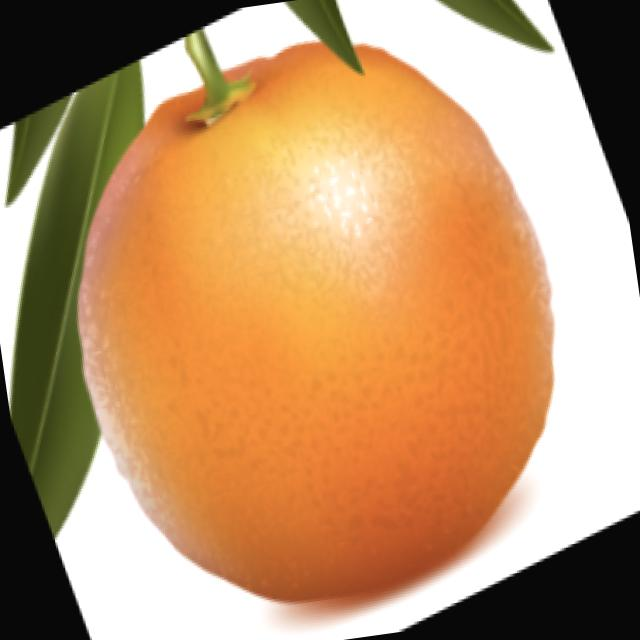orange: (48, 2, 607, 640)
